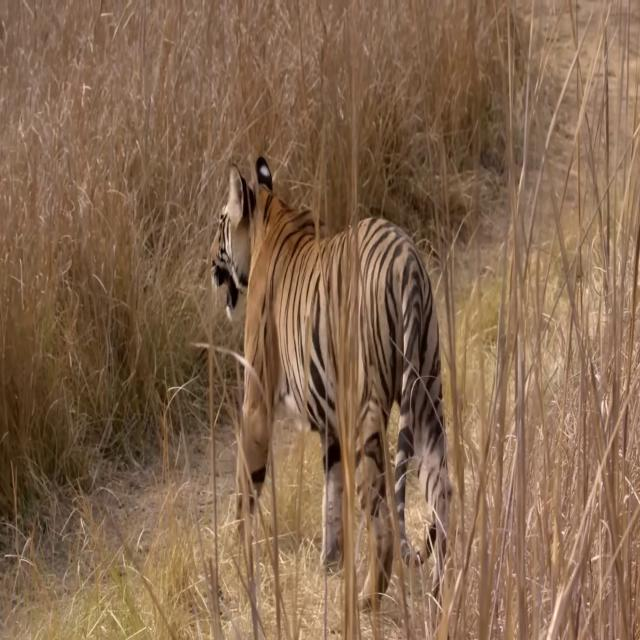tiger: (210, 156, 454, 614)
